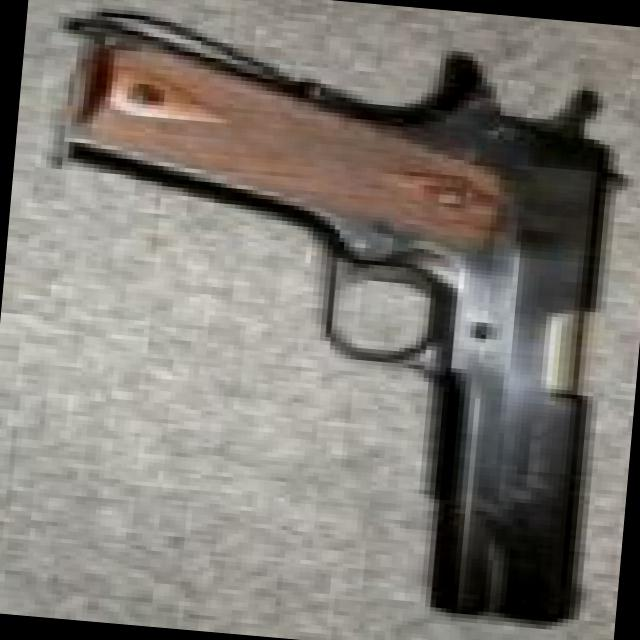handgun: (30, 0, 639, 626)
